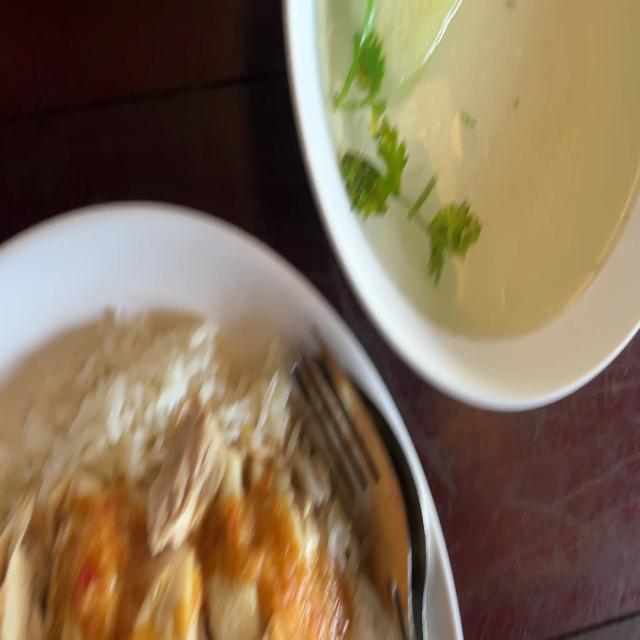boiled_chicken: (10, 409, 318, 639)
chicken_rice: (0, 303, 364, 639)
